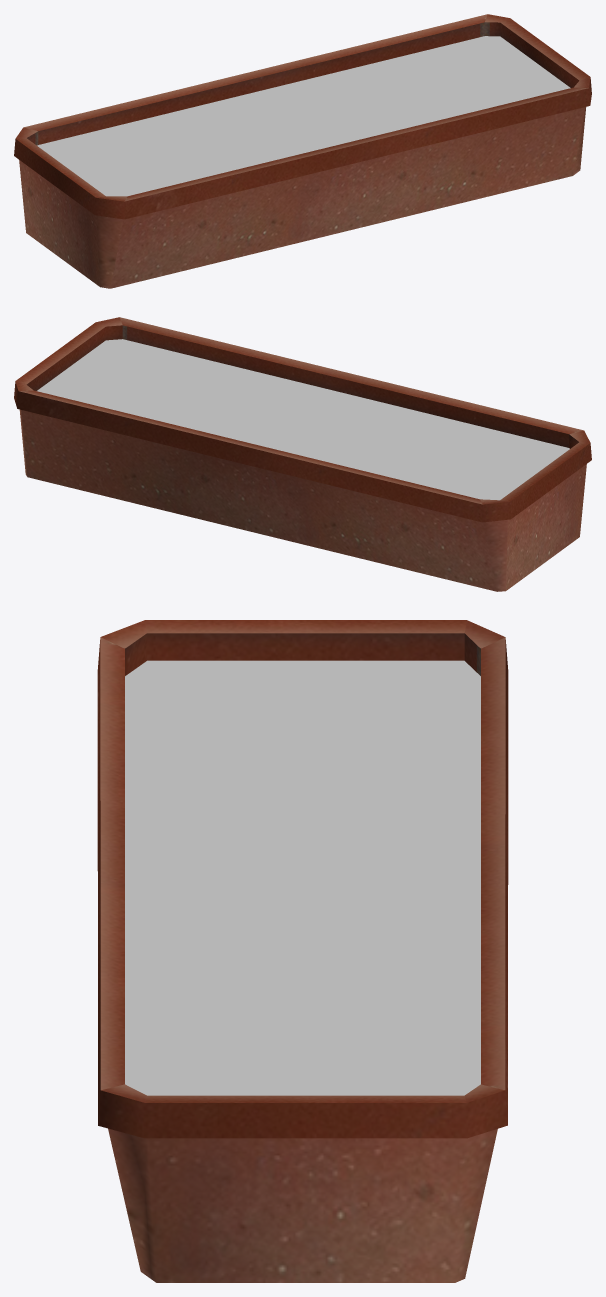
File: flowerpot2.fbx
3 renders of one model, top to bottom at view 1: azimuth 30°, elevation 25°; view 2: azimuth 150°, elevation 25°; view 3: azimuth 270°, elevation 25°, orthographic. The views are drawn at different scales.
Visible parts, largest first — view 1: flowerpot2; view 2: flowerpot2; view 3: flowerpot2.
Part boxes in pixels (left/top/right/bottom): flowerpot2: left=14, top=14, right=591, bottom=288; flowerpot2: left=14, top=317, right=591, bottom=591; flowerpot2: left=97, top=620, right=508, bottom=1282.
Size of the model in its own units: 0.5768 by 0.1039 by 0.2063.
